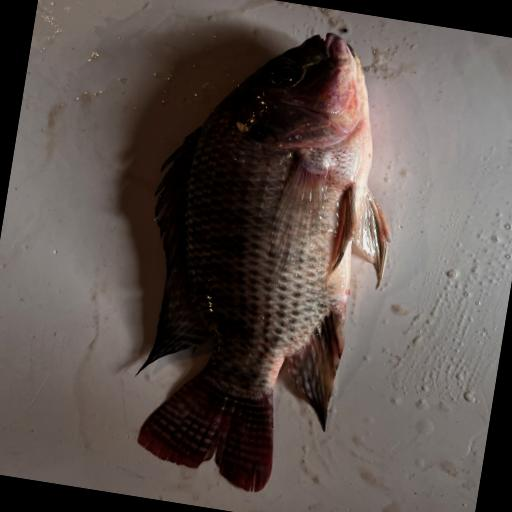Tilapia: (109, 9, 421, 508)
